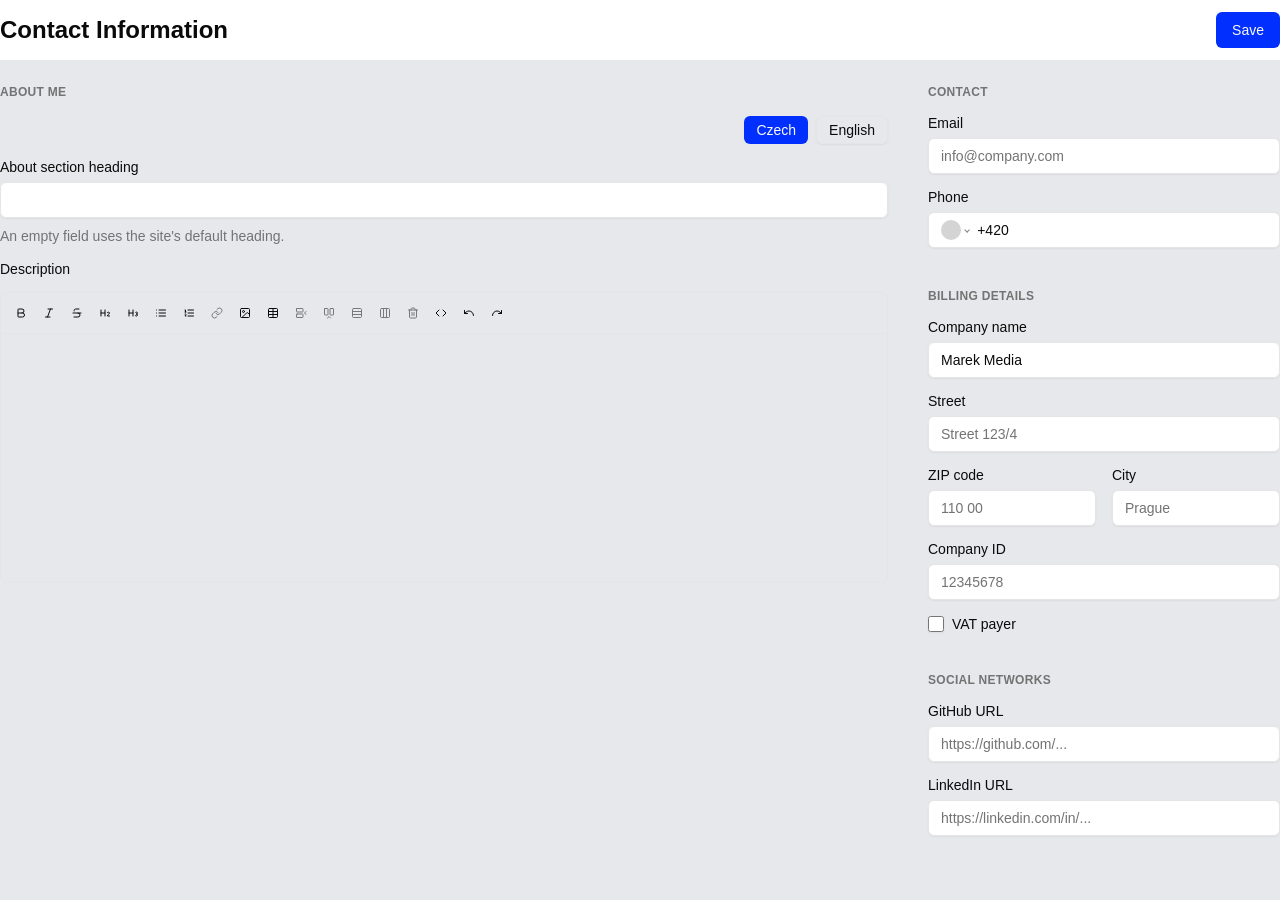
ContactPage version › should send the version of the contact and keep the input after a stale one
Type " 2" into the field labelled "Company name" at (1104, 360), box [928, 342, 1279, 378]
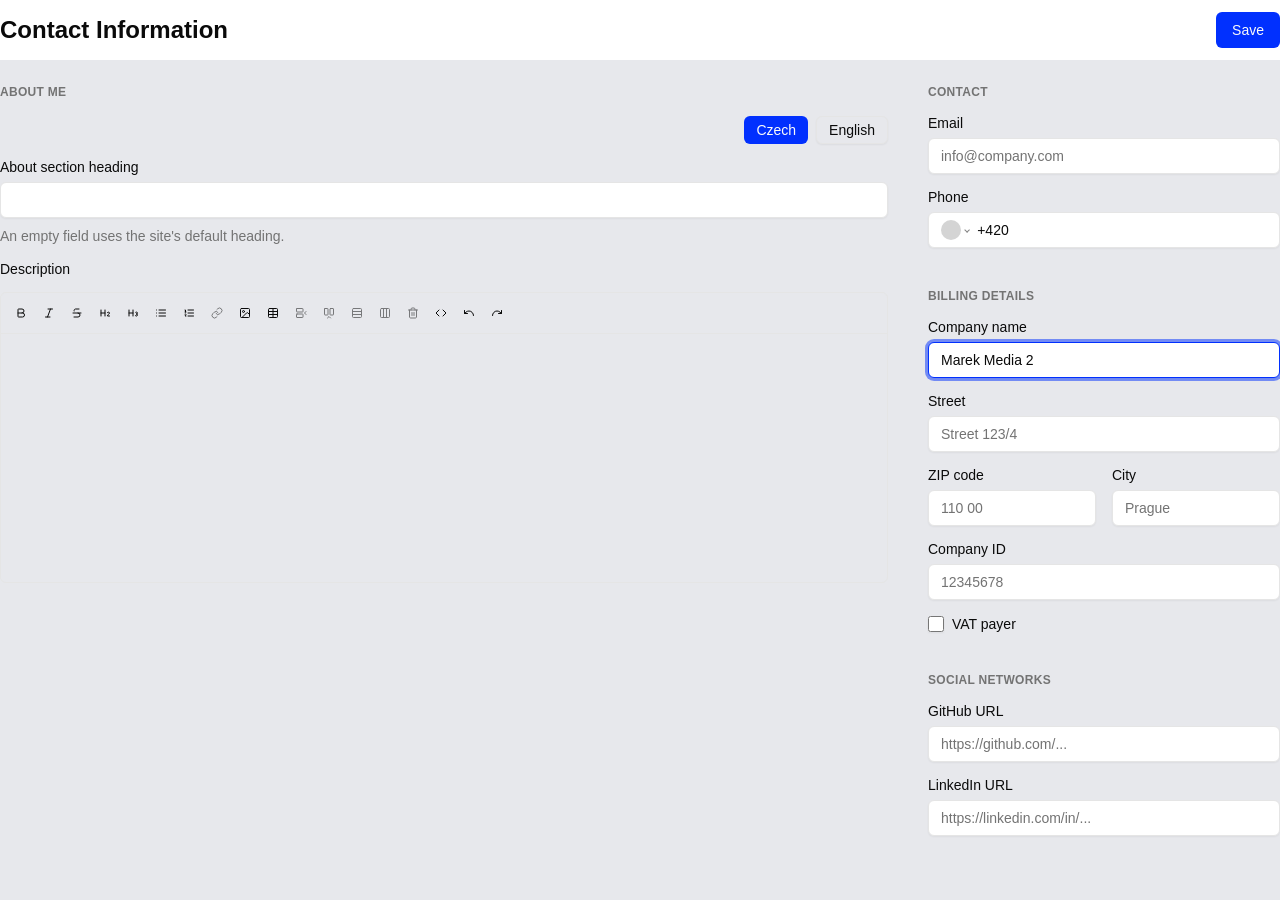
Click the button "Save" at (1248, 30), box [1216, 12, 1279, 48]
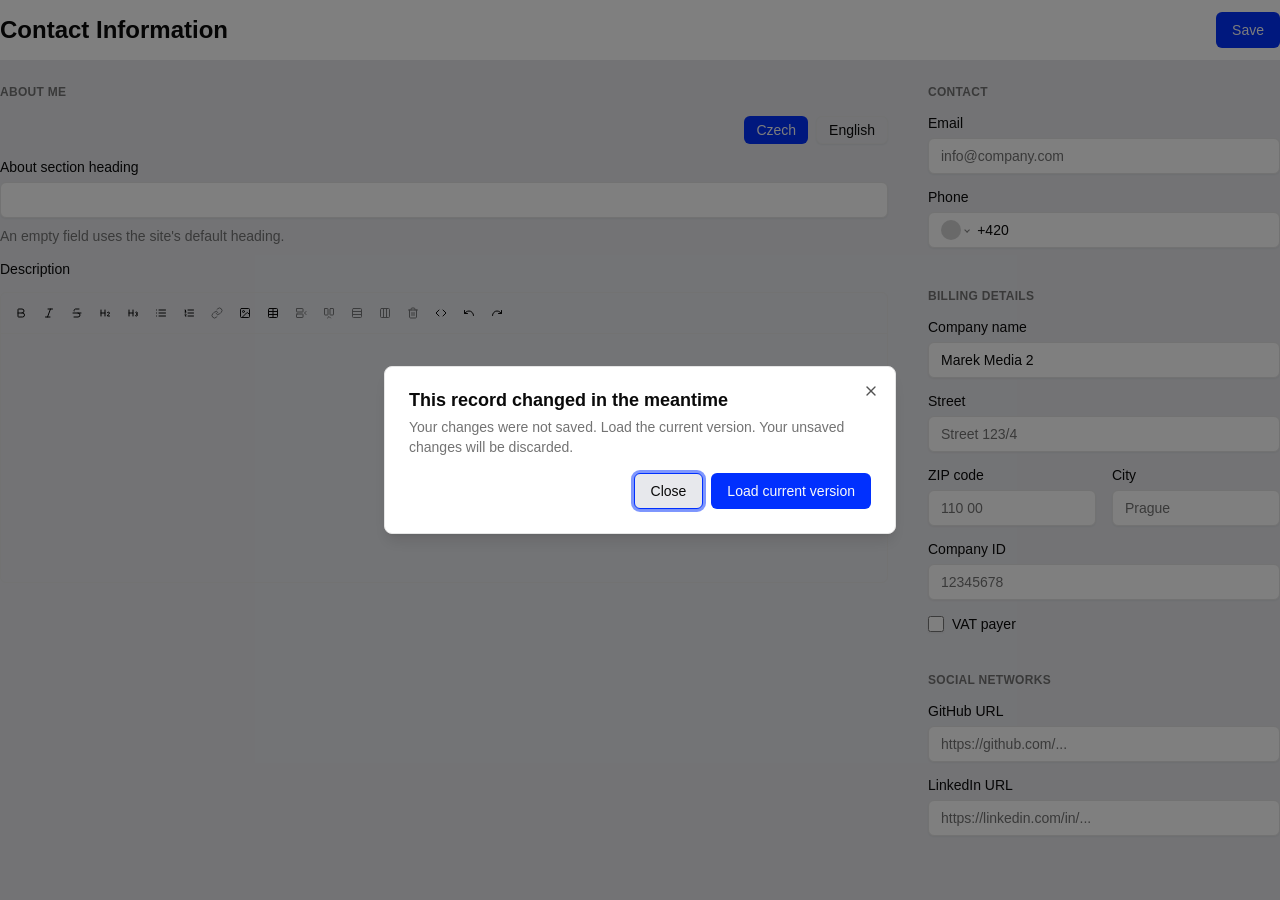
Expected: the field labelled "Company name" holds "Marek Media 2", [928, 342, 1279, 378]
Expected: the dialog "This record changed in the meantime" is shown, [384, 366, 896, 534]
